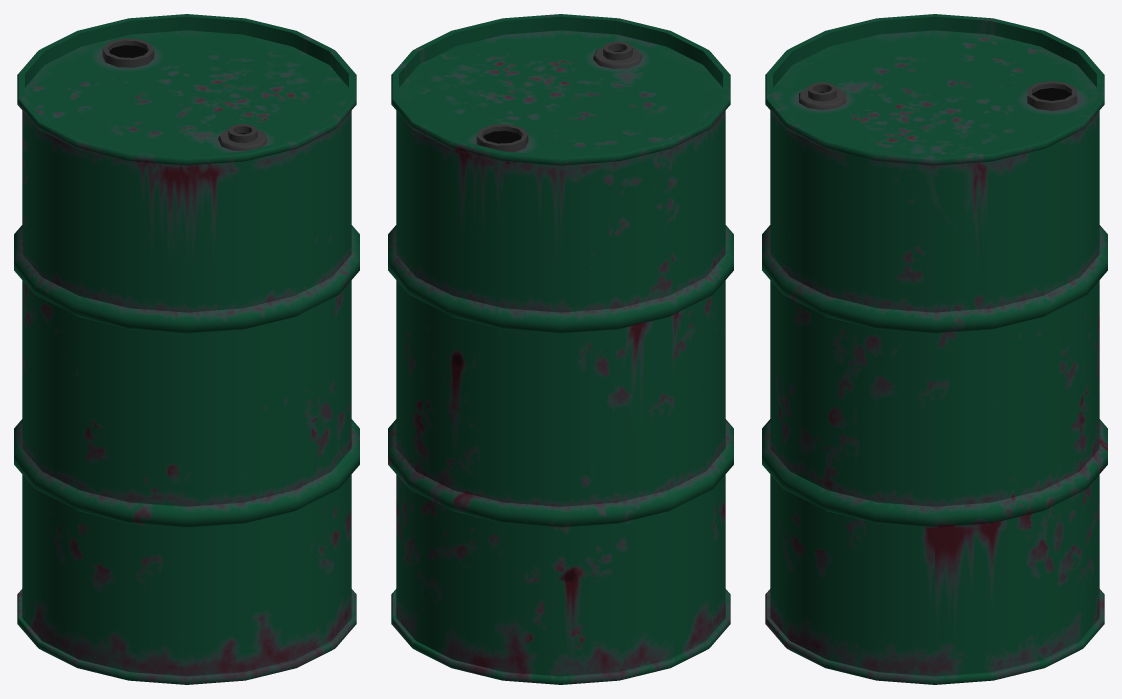
Rendered from Oil drum 2,1.fbx.
3 renders of one model, left to right at view 1: azimuth 30°, elevation 25°; view 2: azimuth 150°, elevation 25°; view 3: azimuth 270°, elevation 25°, orthographic.
Visible parts, largest first — view 1: Oil_Drum_003_LOD0; view 2: Oil_Drum_003_LOD0; view 3: Oil_Drum_003_LOD0.
Part boxes in pixels (x1,y1,x2,y2): Oil_Drum_003_LOD0: (14,14,359,684); Oil_Drum_003_LOD0: (388,14,733,684); Oil_Drum_003_LOD0: (762,14,1107,684).
Size of what is drawn, in the model's own units: 51.64 by 85.43 by 50.85.
